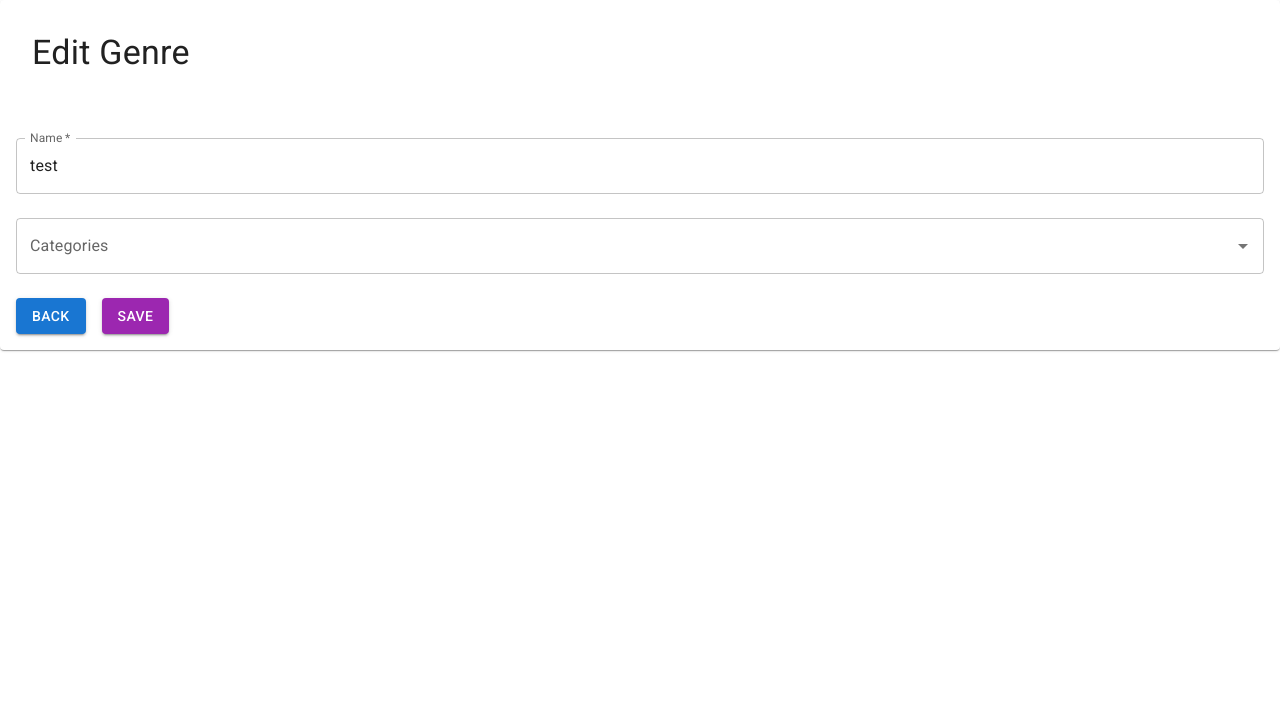
Scenario: EditGenre › should handle submit
Expected: the button "Save" is shown, [102, 298, 169, 334]
Replace the text in the field with test id "name" with "Test" at (640, 166), box [16, 138, 1264, 194]
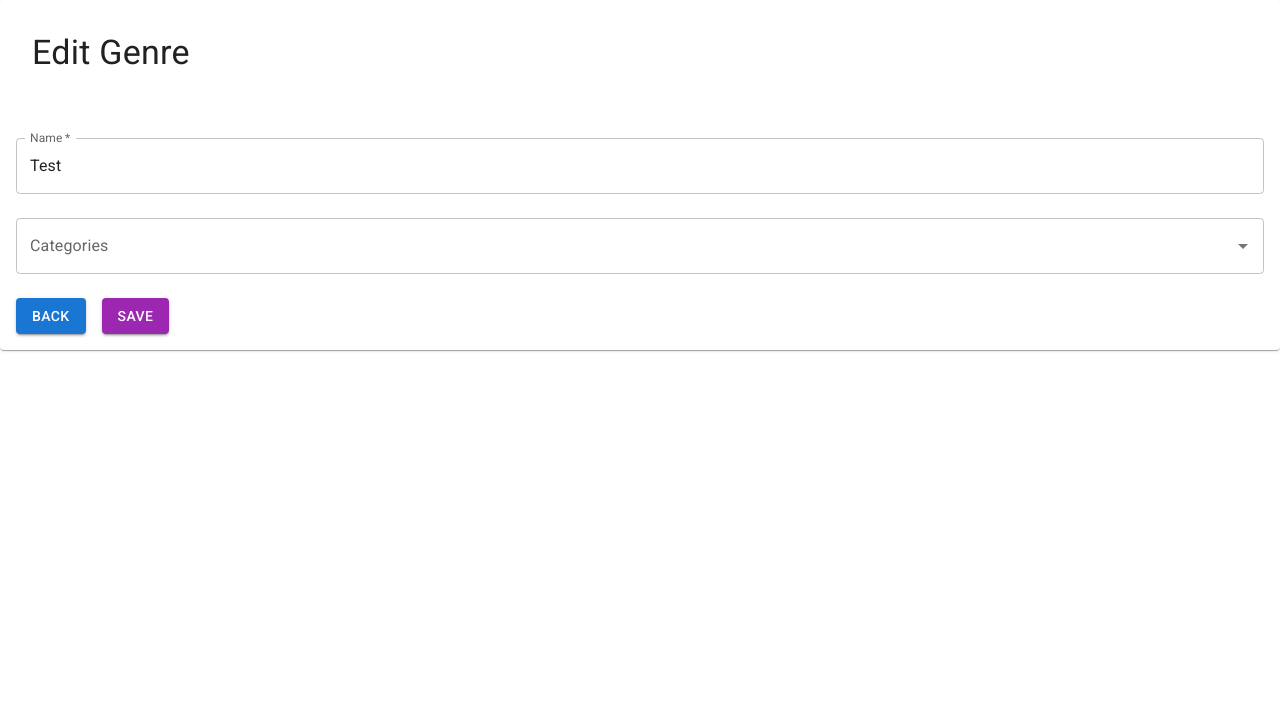
Click the button "Save" at (136, 316), box [102, 298, 169, 334]
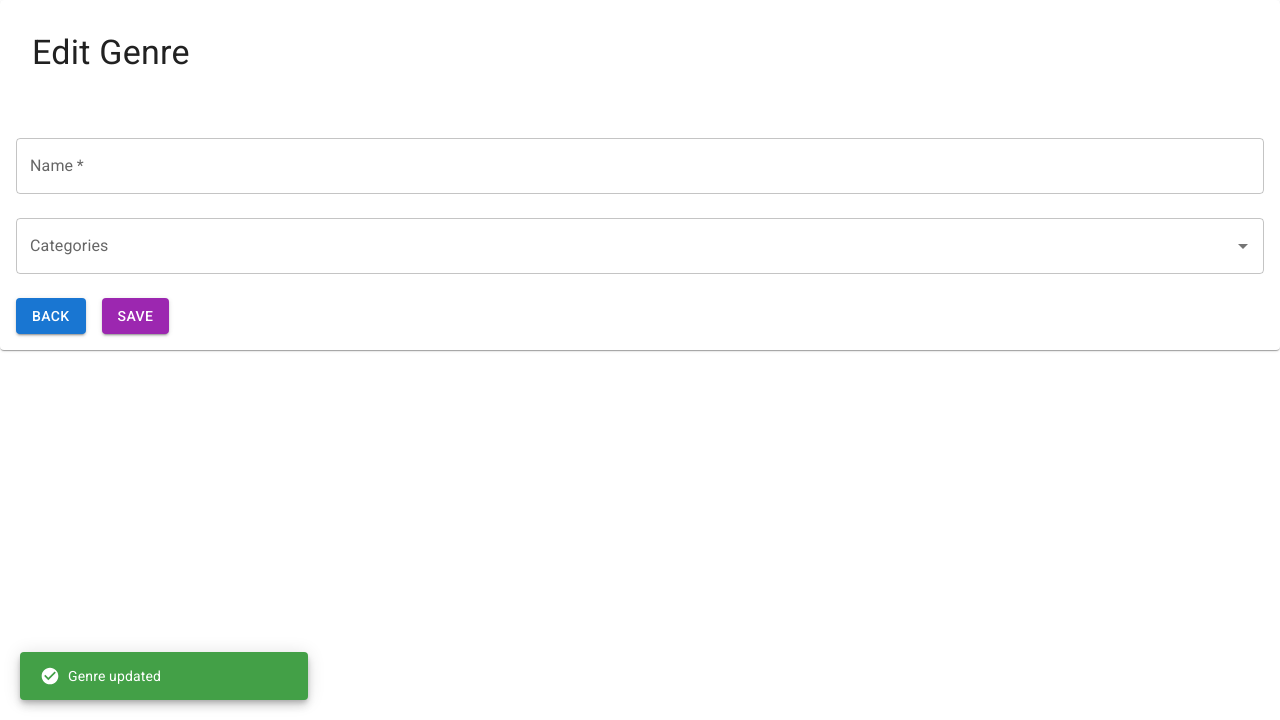
Expected: the text "Genre updated" is shown, [40, 666, 161, 686]
